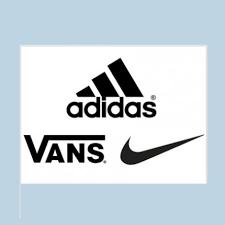adidas: (66, 58, 157, 118)
nike: (120, 134, 202, 166)
vans: (23, 135, 106, 164)
